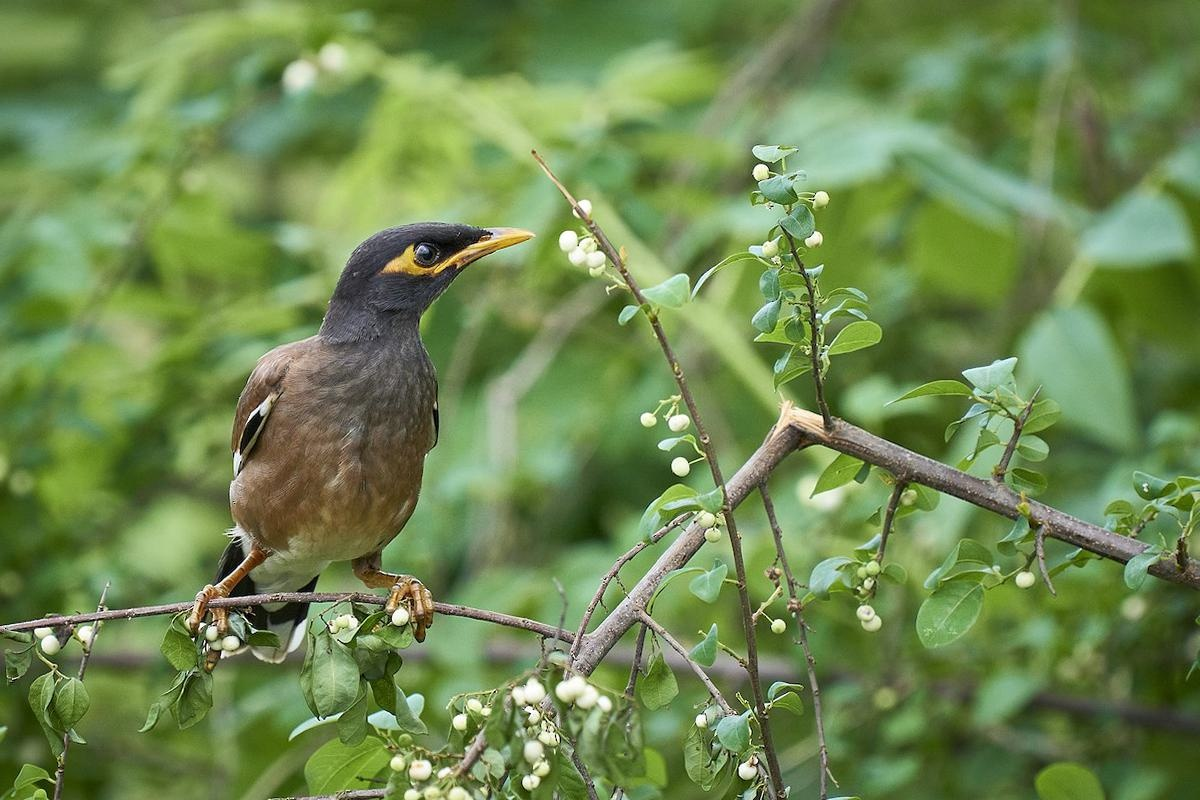myna: (138, 182, 570, 633)
